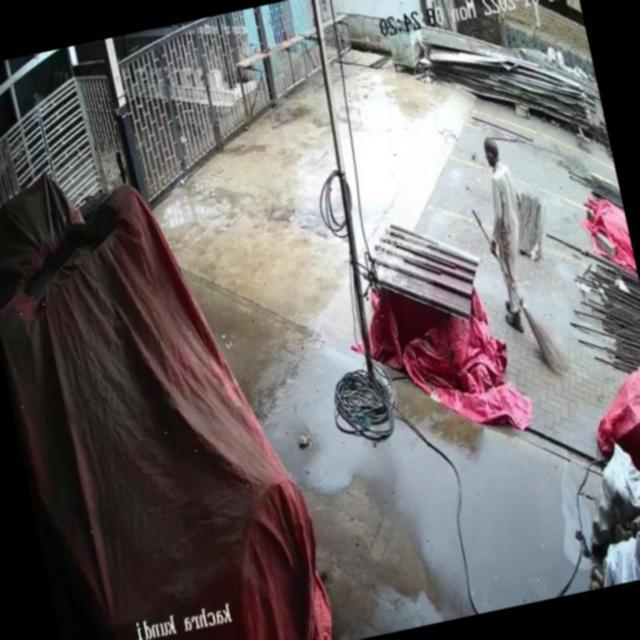person: (461, 127, 546, 344)
